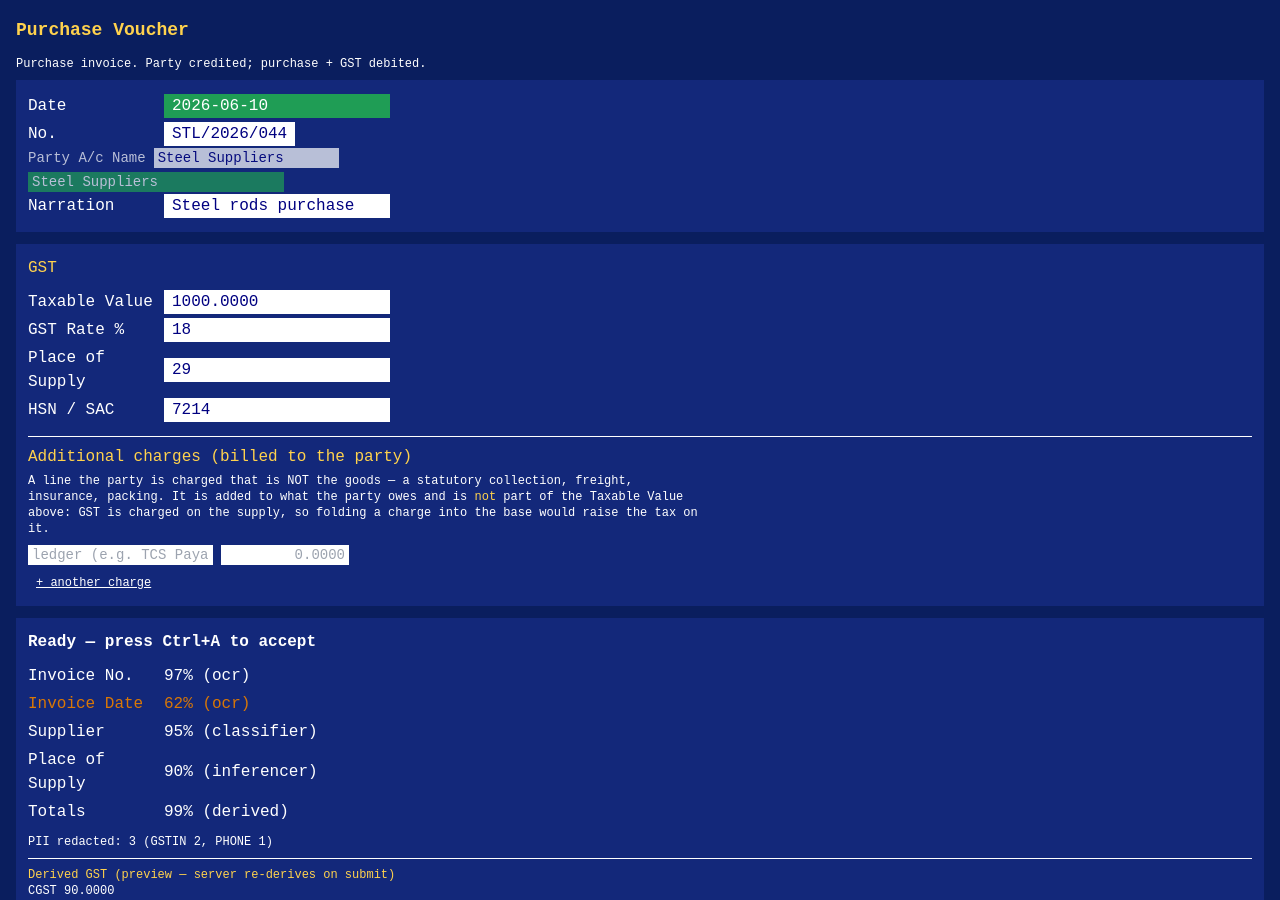
Purchase voucher DRAFT mode (OCR prefill + HITL accept) › an edited field drops its amber confidence chip
Replace the text in the field with test id "draft-date" with "2026-06-11": (277, 106) top-left (164, 94), bottom-right (390, 118)
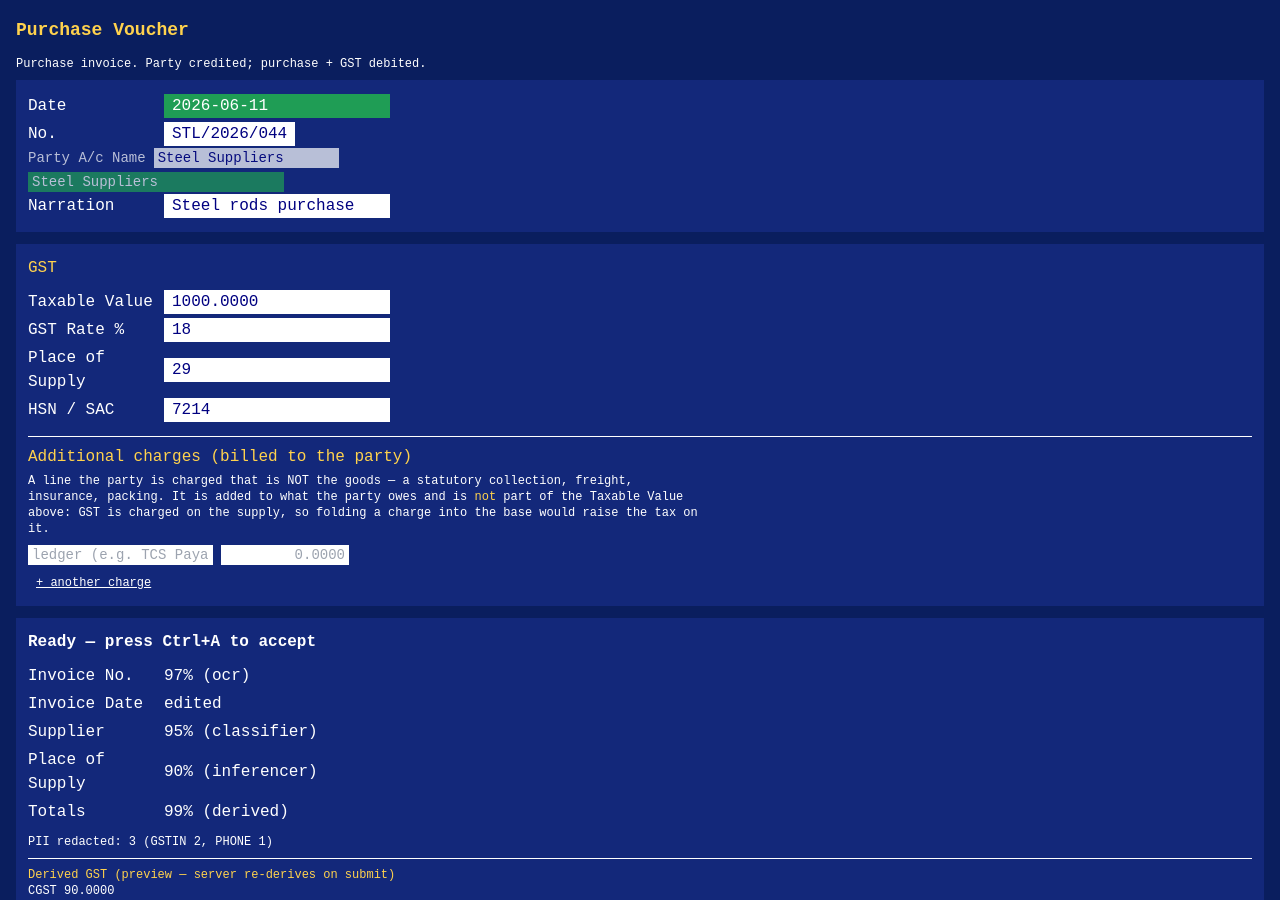
expect the element with test id "conf-invoice_date" shows "edited": met, box top-left (164, 695), bottom-right (222, 713)
